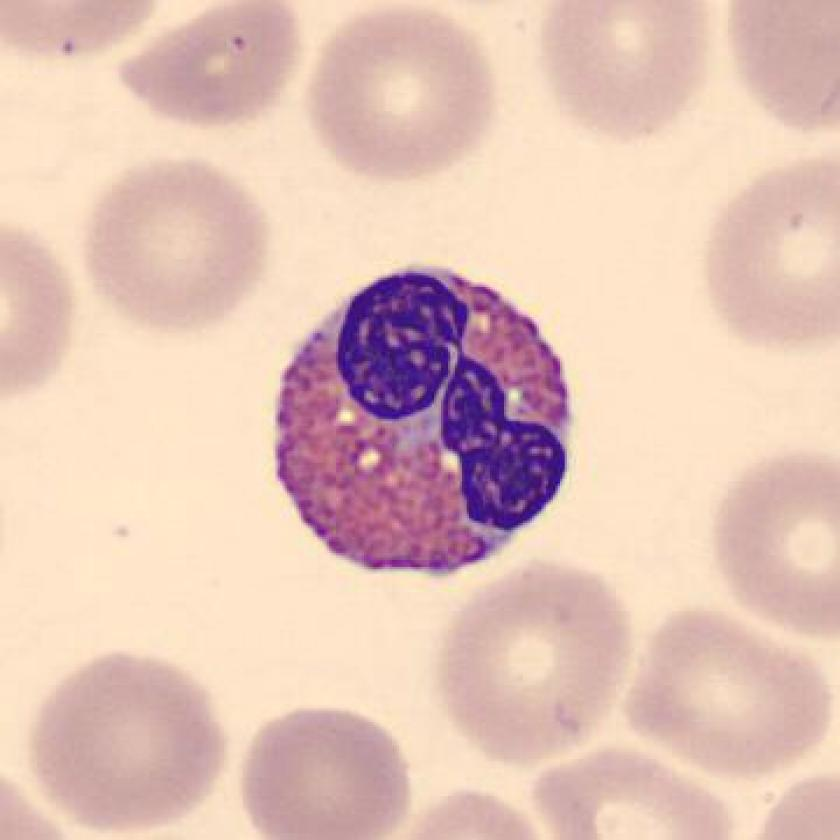eosinophil: (263, 251, 592, 598)
